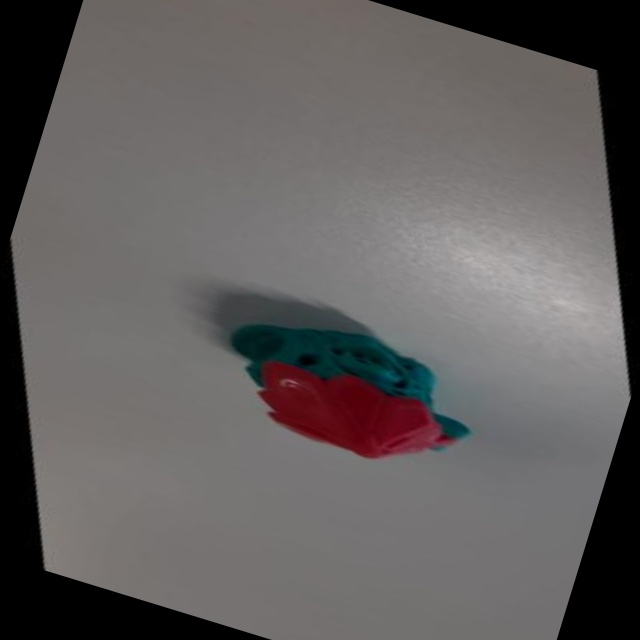House: (174, 280, 504, 504)
